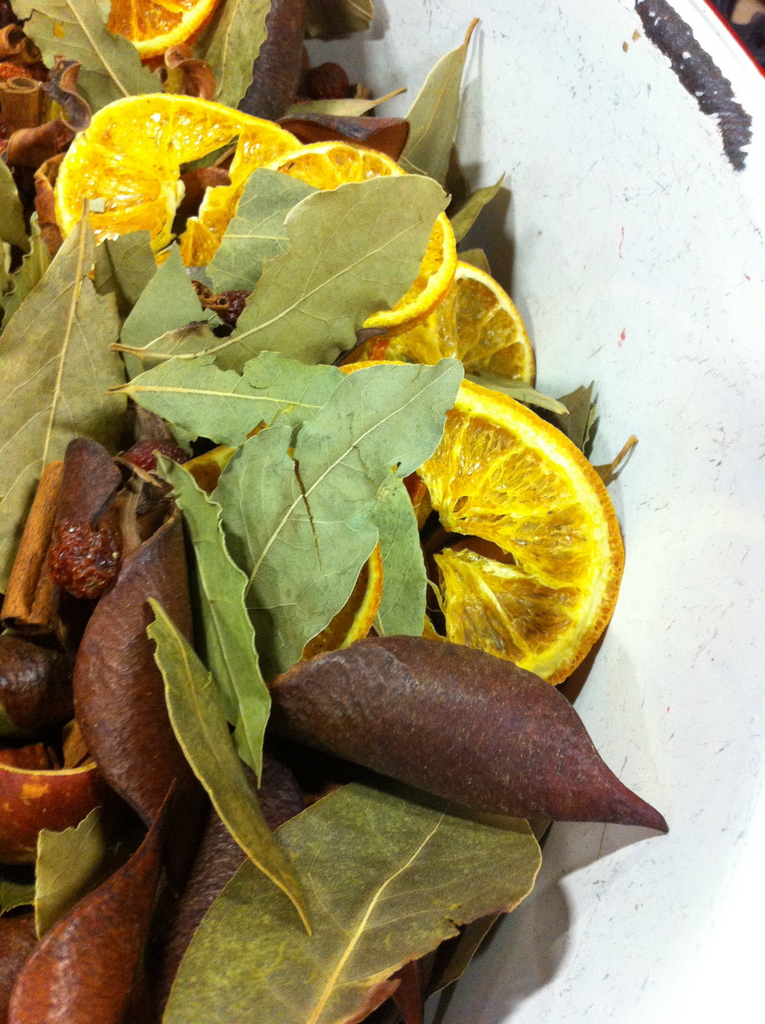Ripe: (372, 356, 624, 682)
